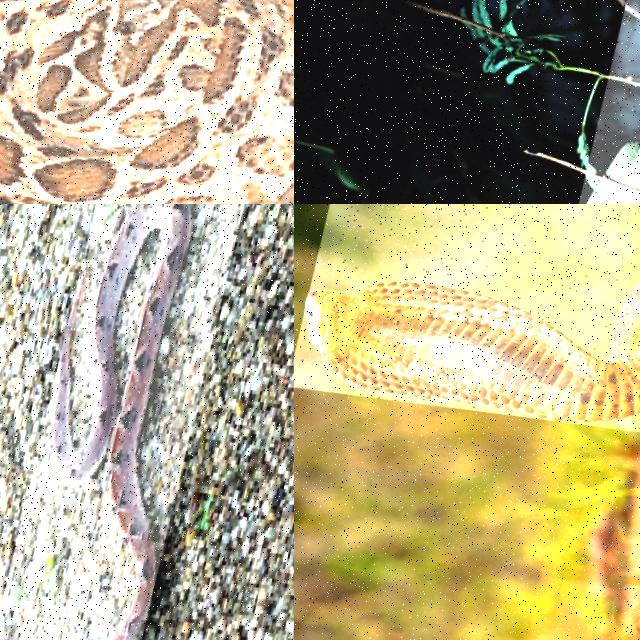Calloselasma rhodostoma: (52, 204, 192, 639)
Daboia siamensis: (0, 0, 293, 203)
Ophiophagus hannah: (306, 281, 639, 422)
Trimeresurus macrops: (611, 142, 639, 188)
